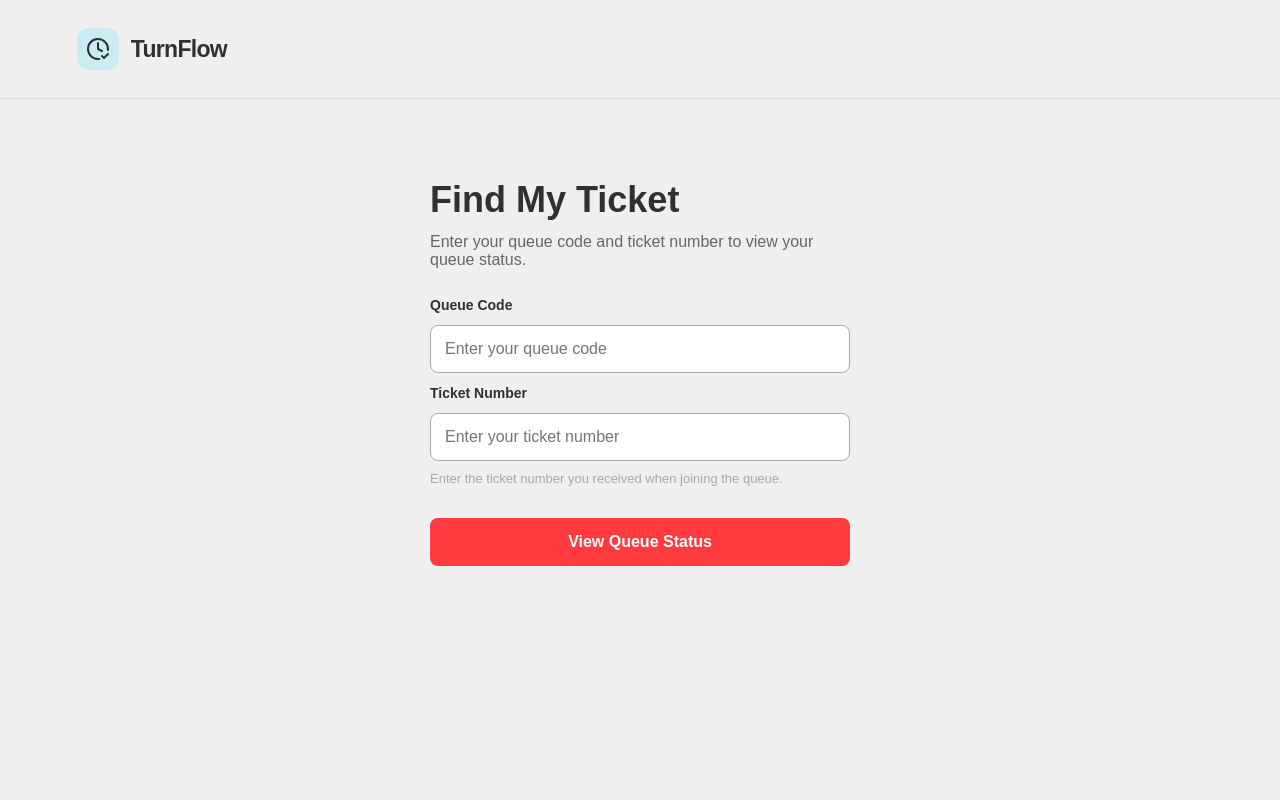
Test case: CustomerFindTicket › shows an error when the ticket is not found
Step 1. Type "ABC-123-45" into the field labelled "Queue Code" → (640, 349), box [430,325,850,373]
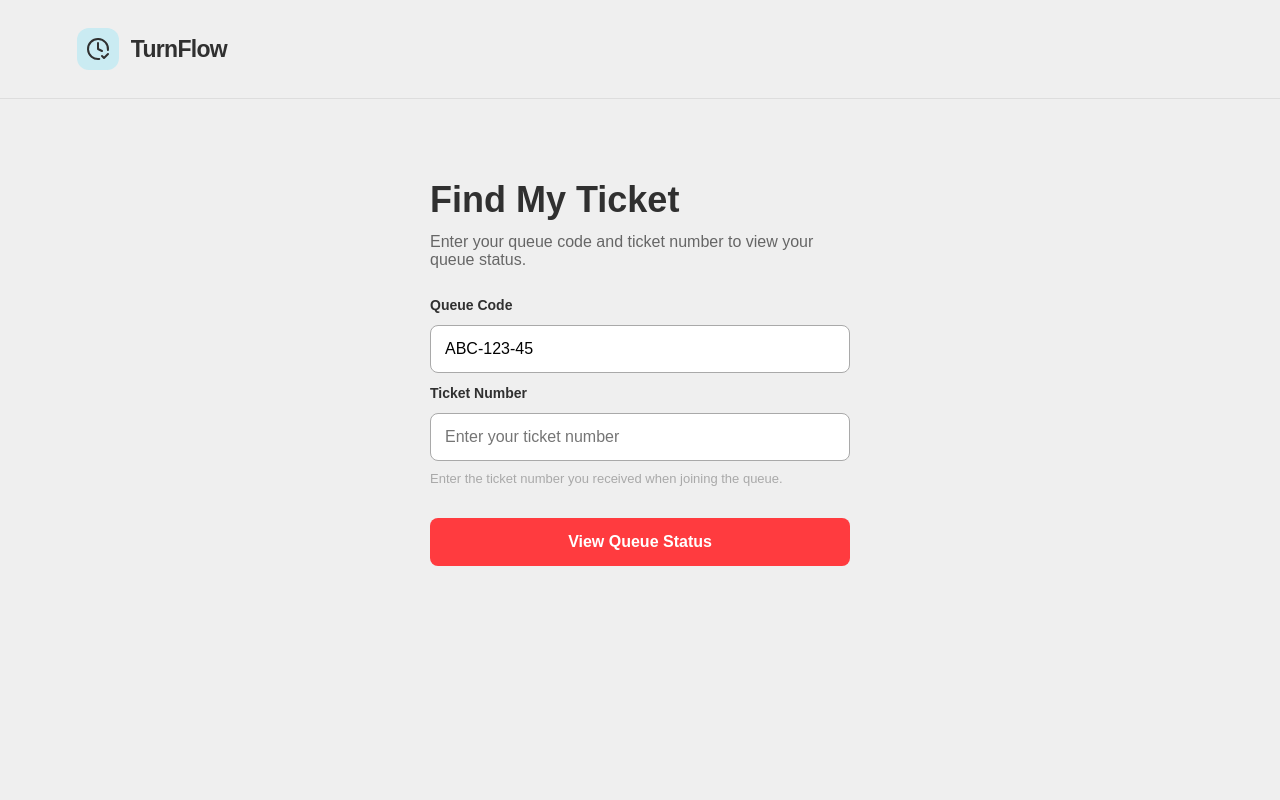
Step 2. Type "123456" into the field labelled "Ticket Number" → (640, 437), box [430,413,850,461]
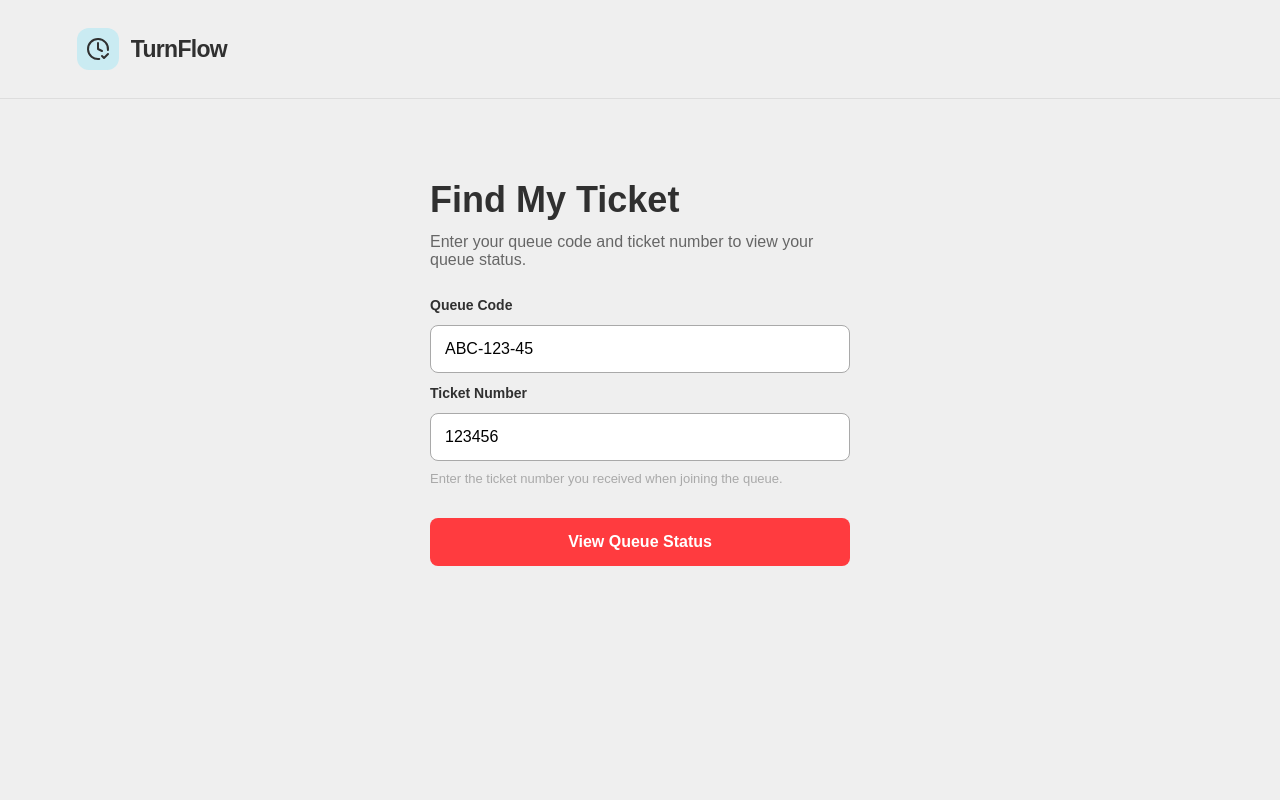
Step 3. Click the button "View Queue Status" → (640, 542), box [430,518,850,566]
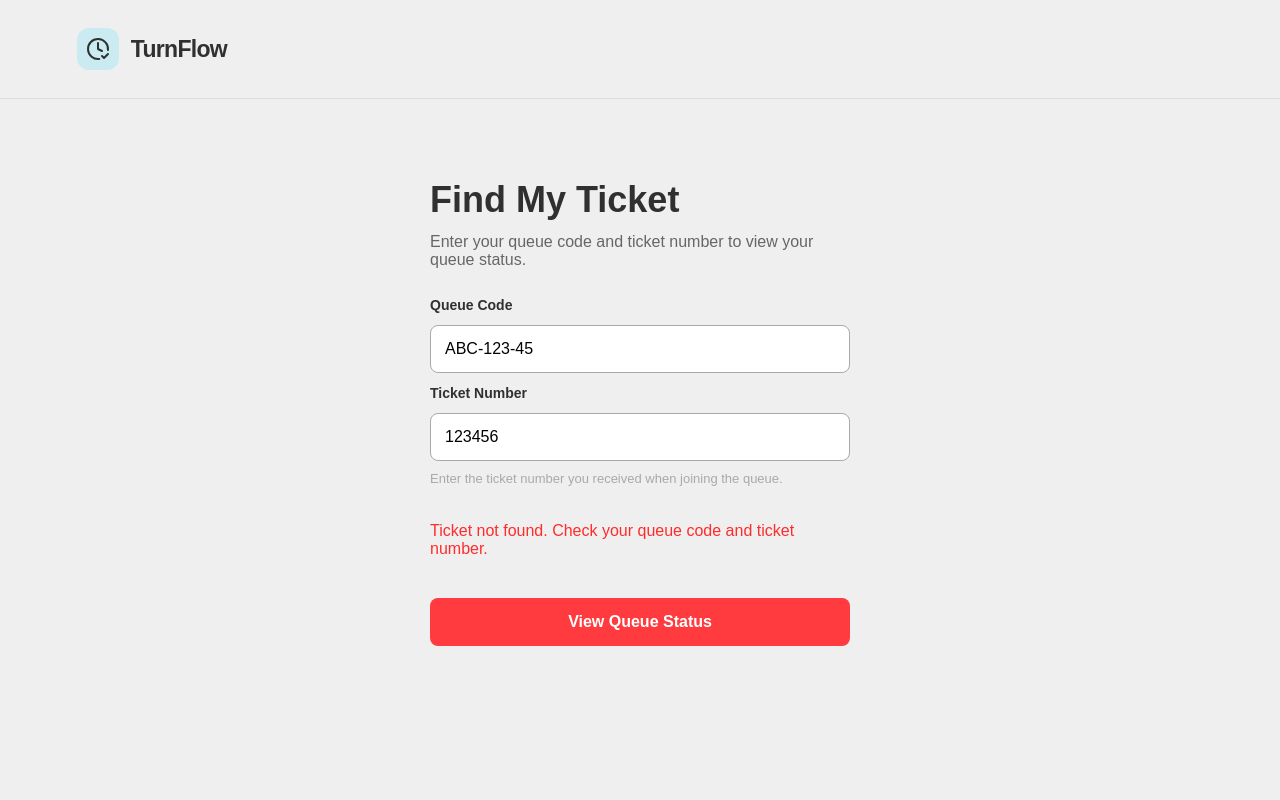
Expected: the message reads "Ticket not found. Check your queue code and ticket number.", [430,522,794,557]
